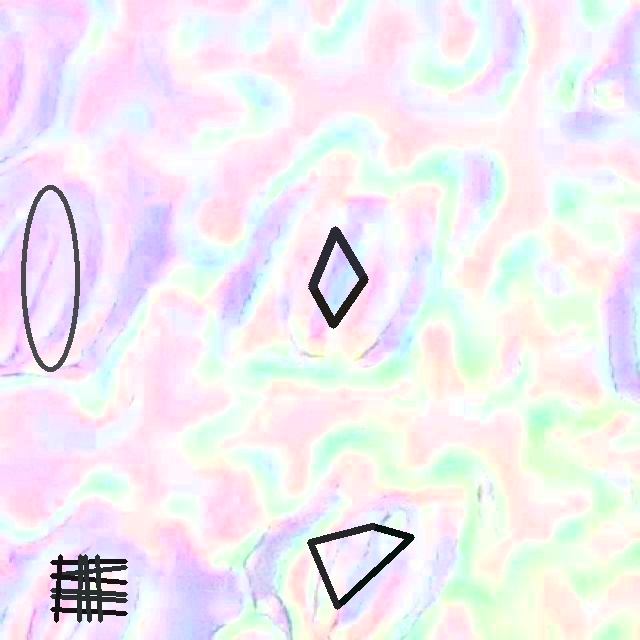close: (19, 185, 80, 372)
open: (307, 523, 414, 609), (308, 226, 367, 327), (50, 554, 127, 622)
